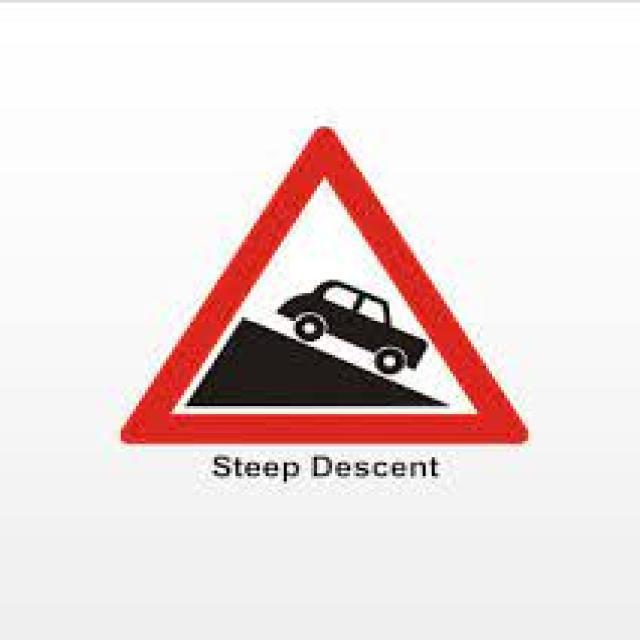steep descent: (118, 124, 530, 444)
